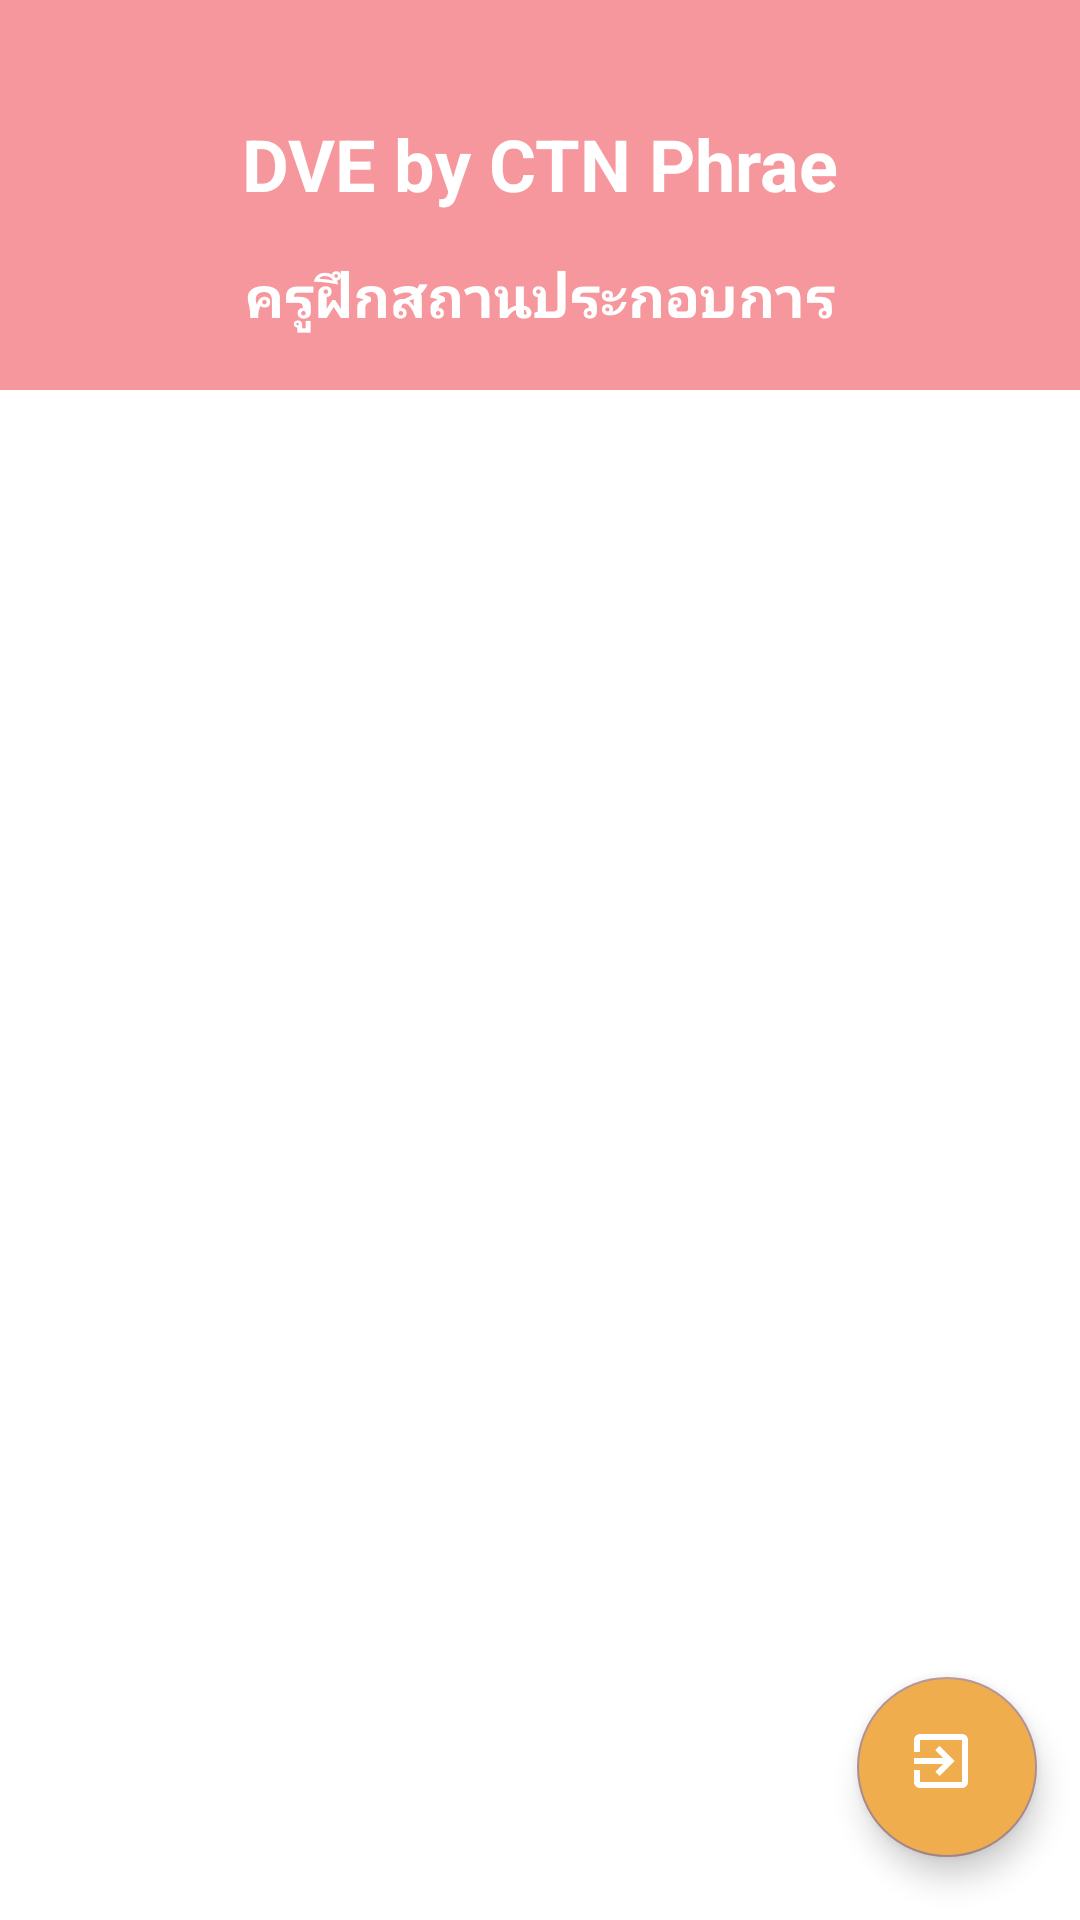

Icon click points for this 1080w x 1920h phone screenshot, format (x,y):
out: (947,1767)
